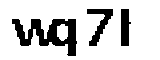7: (82, 4, 115, 51)
l: (118, 6, 138, 48)
q: (50, 16, 81, 60)
w: (6, 14, 53, 50)
